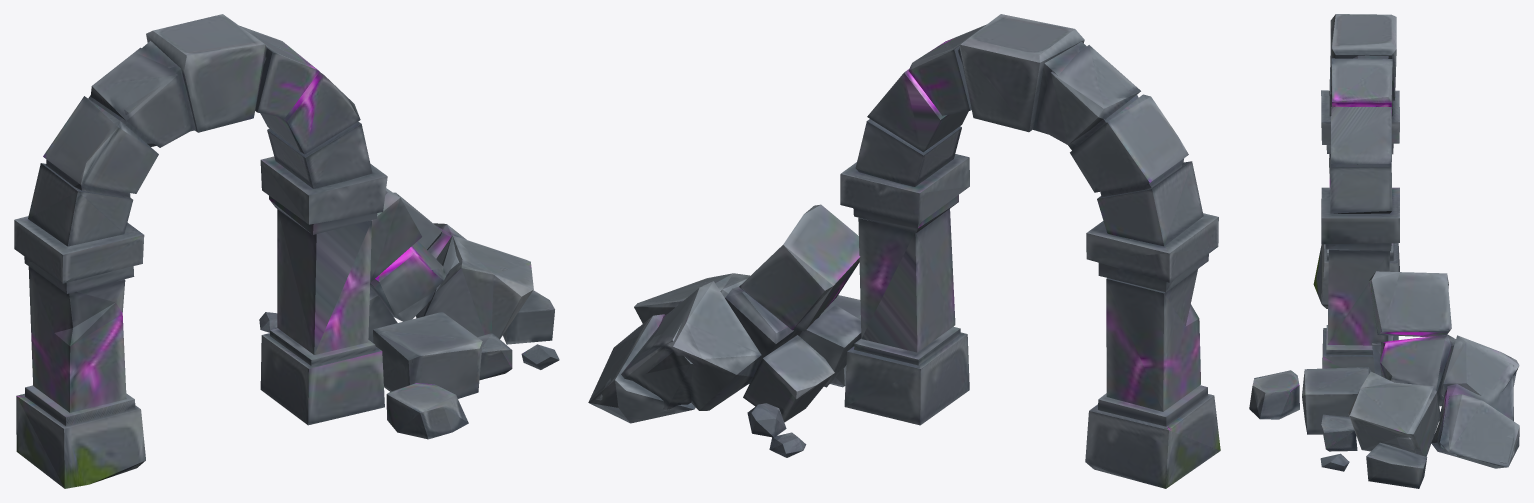
The model's file is a-arcade-semis.glb.
The picture shows the model from 3 angles, left to right: view 1: azimuth 30°, elevation 25°; view 2: azimuth 150°, elevation 25°; view 3: azimuth 270°, elevation 25°; orthographic projection. The views are drawn at different scales.
Parts seen in each view (by area): view 1: a-arcade-semis; view 2: a-arcade-semis; view 3: a-arcade-semis.
Part boxes in pixels (x1,y1,x2,y2): a-arcade-semis: (14,14,559,488); a-arcade-semis: (588,14,1220,488); a-arcade-semis: (1249,14,1519,488).
Bounding box in the file's own units: 2 × 1.44 × 1.1.
1 material, 1 textured.
